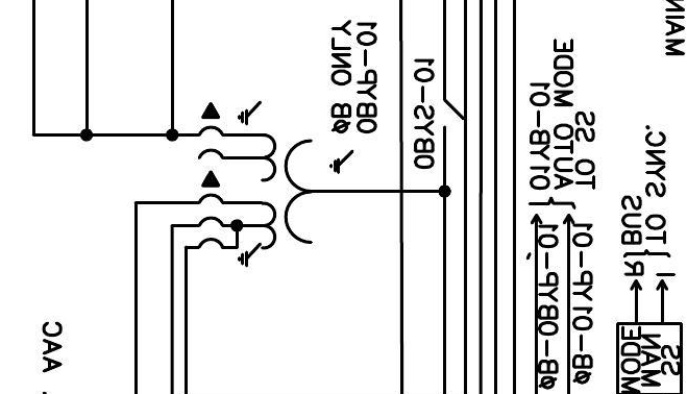115_ds: (442, 99, 464, 130)
115_vt_1p: (197, 100, 355, 268)
